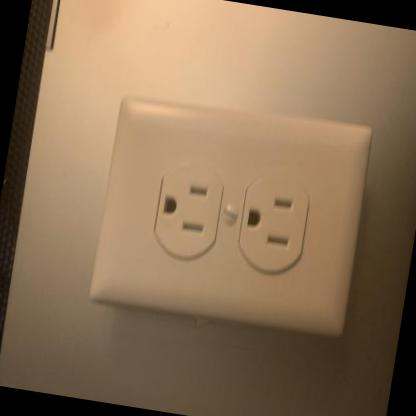OUTLET: (85, 92, 376, 342)
